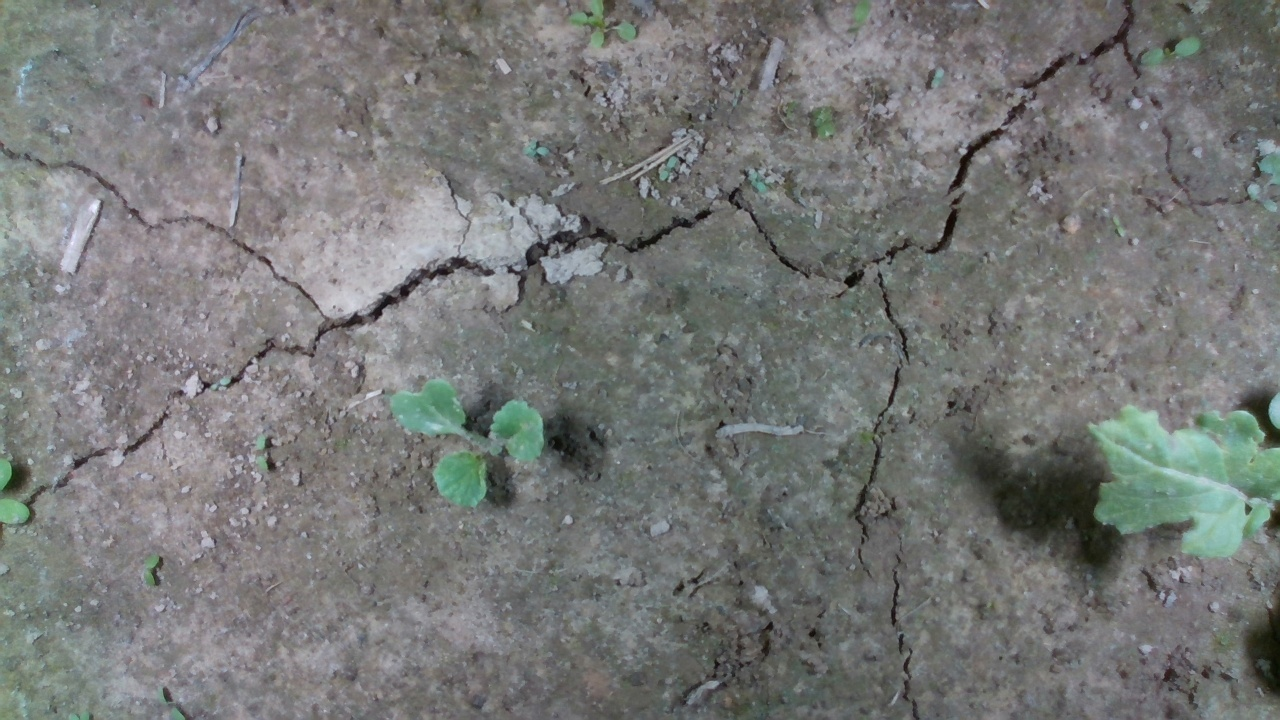weed: (244, 428, 277, 476), (126, 552, 166, 589), (743, 163, 779, 203), (515, 134, 554, 162), (930, 61, 948, 89)
